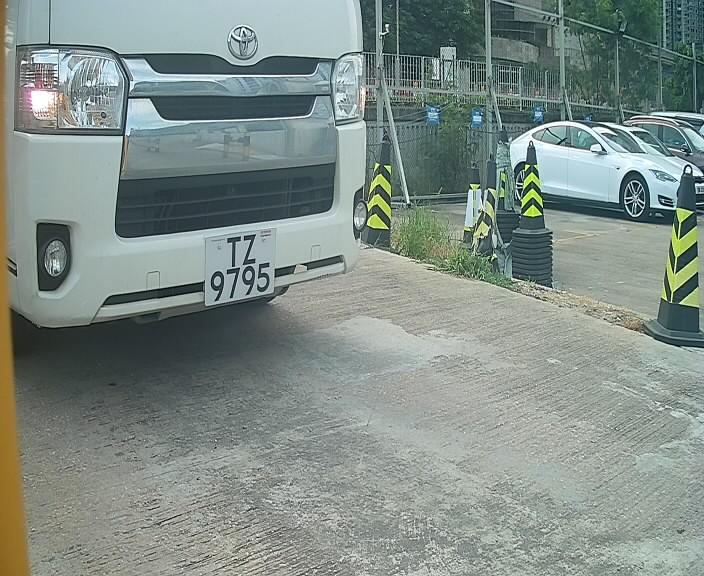License Plate: (189, 229, 293, 314)
